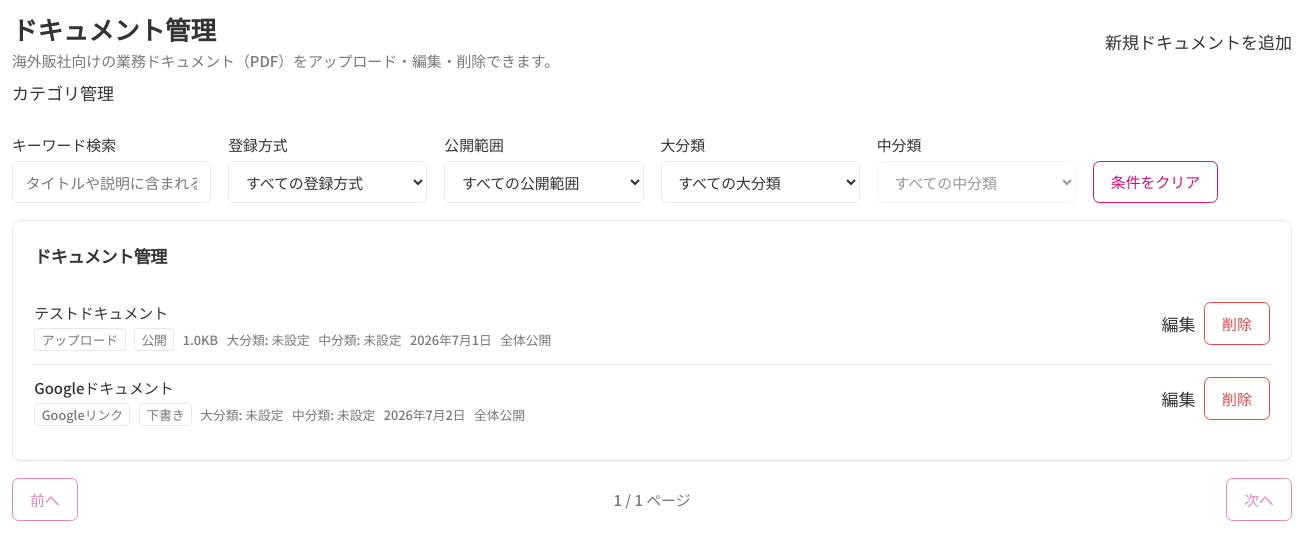
Test: DocumentManagementList › 登録方式（sourceType）で絞り込める
Select "Googleリンク" in the dropdown labelled "登録方式" at (328, 182), box [228,161,427,203]
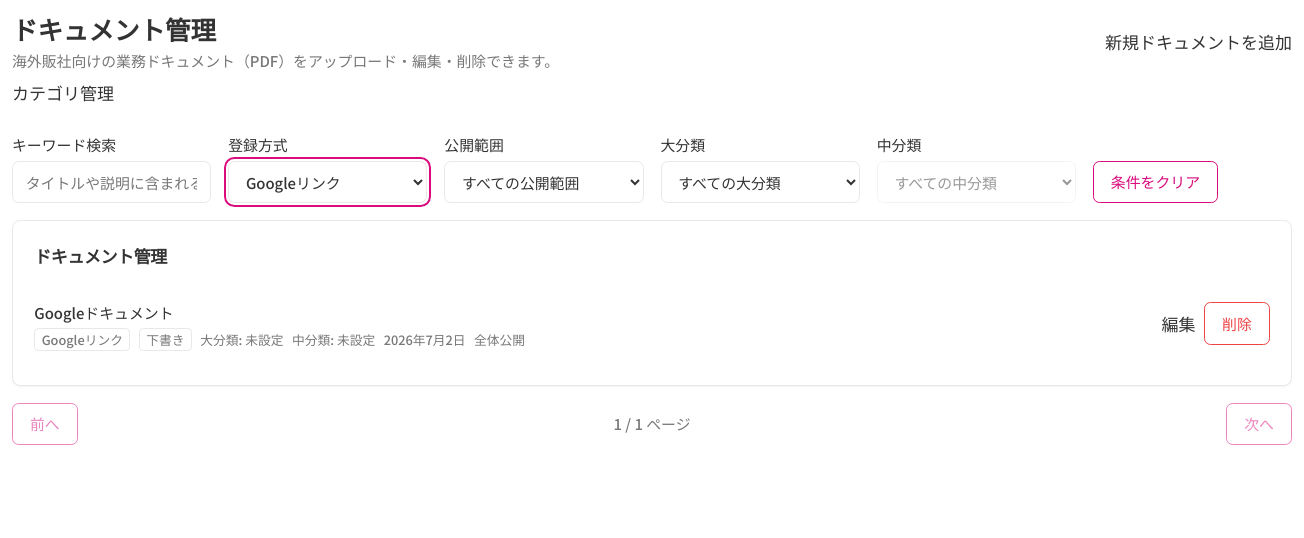
Expected: the text "Googleドキュメント" is shown, [34,302,174,323]
Expected: the text "テストドキュメント" is gone
